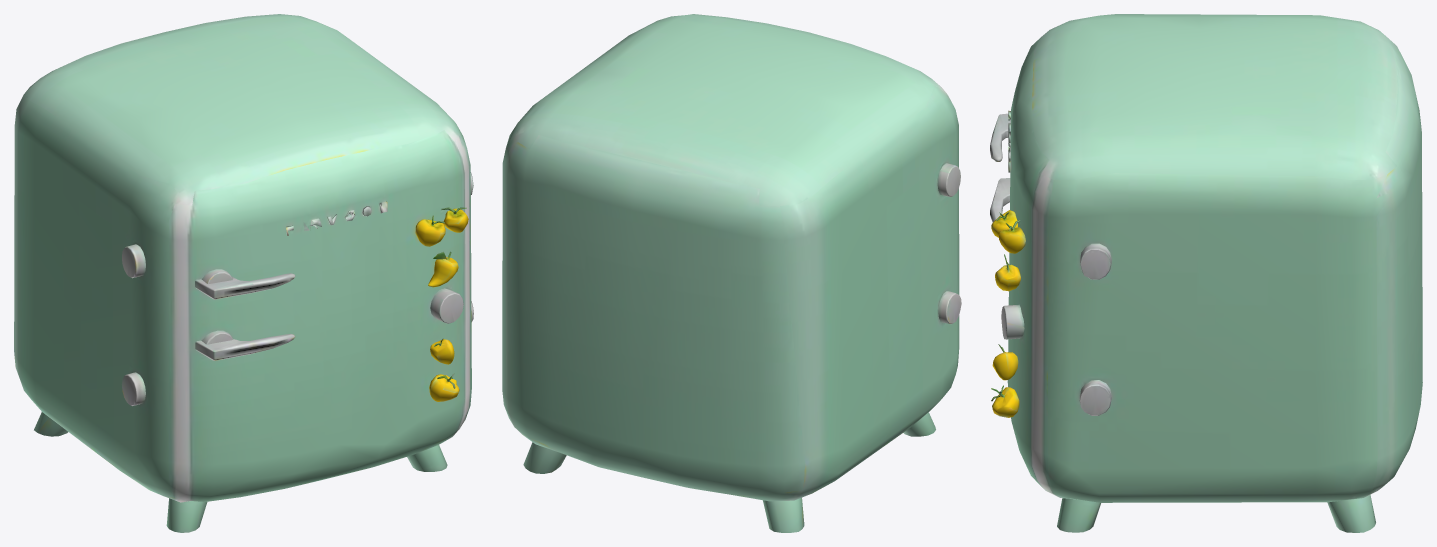
Rendered from fridge.glb.
3 views of the same model, side by side, from view 1: azimuth 30°, elevation 25°; view 2: azimuth 150°, elevation 25°; view 3: azimuth 270°, elevation 25° (orthographic). The views are drawn at different scales.
Bounding box in the file's own units: 0.9107 × 0.9531 × 0.9467.
Materials: 1 (1 with a texture image).
